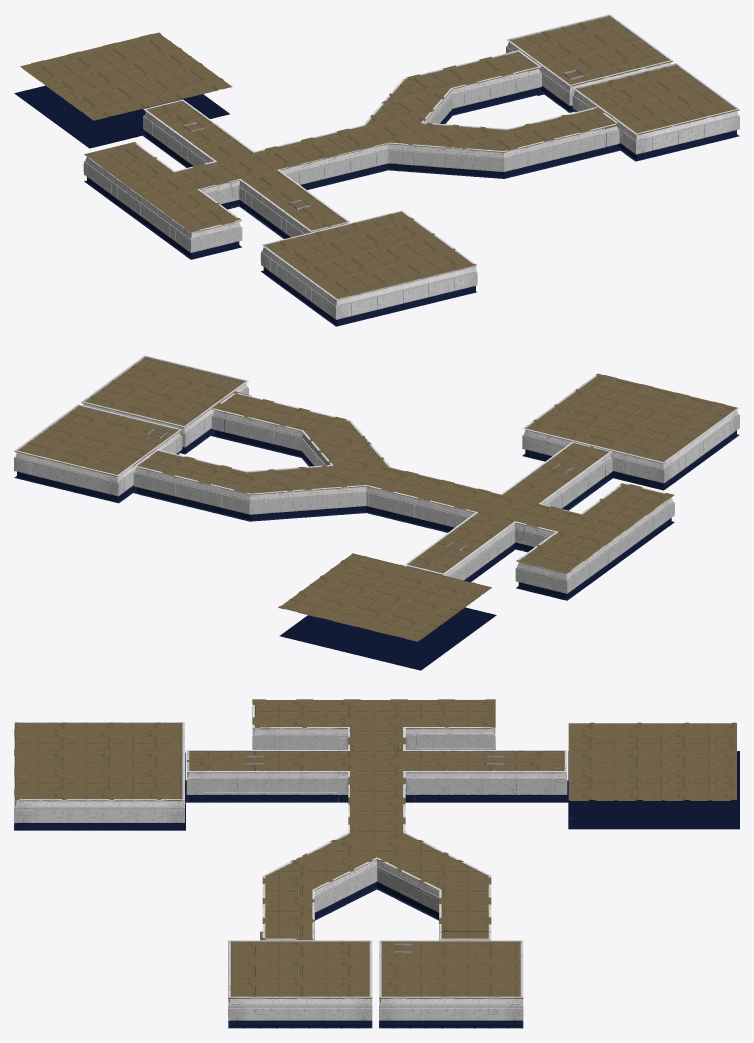
Rendered from Room.fbx.
3 views of the same model, one above another, from view 1: azimuth 30°, elevation 25°; view 2: azimuth 150°, elevation 25°; view 3: azimuth 270°, elevation 25° (orthographic). The views are drawn at different scales.
Visible parts, largest first — view 1: Ceiling, Wall_05_Panels.002, floor, Wall_04_CornerPanels.004, Wall_05_Panels.017, Wall_05_Panels.007, Wall_05_Panels.014, Wall_05_Panels.022, Wall_05_Panels.015, Wall_05_Panels.012, Wall_05_Panels.004, Wall_05_Panels.021 (+4 smaller); view 2: Ceiling, Wall_05_Panels.016, floor, Wall_05_Panels.001, Wall_04_CornerPanels.002, Wall_05_Panels.007, Wall_05_Panels.020, Wall_05_Panels.005, Wall_05_Panels.004, Wall_05_Panels.015, Wall_05_Panels.012, Wall_05_Panels.010 (+2 smaller); view 3: Ceiling, floor, Wall_05_Panels.006, Wall_05_Panels.003, Wall_05_Panels.019, Wall_05_Panels.023, Wall_05_Panels.013, Wall_05_Panels.014, Wall_05_Panels.017, Wall_05_Panels.001, Wall_05_Panels.005, Wall_05_Panels.016 (+3 smaller).
Part boxes in pixels (left/top/right/bottom): Ceiling: left=20, top=16, right=739, bottom=298; Wall_05_Panels.002: left=277, top=115, right=619, bottom=189; floor: left=14, top=72, right=726, bottom=325; Wall_04_CornerPanels.004: left=328, top=259, right=477, bottom=326; Wall_05_Panels.017: left=421, top=58, right=541, bottom=123; Wall_05_Panels.007: left=89, top=158, right=184, bottom=252; Wall_05_Panels.014: left=183, top=181, right=242, bottom=259; Wall_05_Panels.022: left=649, top=111, right=726, bottom=157; Wall_05_Panels.015: left=231, top=179, right=329, bottom=238; Wall_05_Panels.012: left=268, top=250, right=329, bottom=320; Wall_05_Panels.004: left=143, top=104, right=217, bottom=167; Wall_05_Panels.021: left=572, top=85, right=649, bottom=161; Ceiling: left=14, top=357, right=736, bottom=641; Wall_05_Panels.016: left=133, top=457, right=478, bottom=532; floor: left=28, top=413, right=729, bottom=670; Wall_05_Panels.001: left=211, top=400, right=333, bottom=466; Wall_04_CornerPanels.002: left=522, top=423, right=672, bottom=489; Wall_05_Panels.007: left=570, top=501, right=666, bottom=595; Wall_05_Panels.020: left=27, top=453, right=105, bottom=499; Wall_05_Panels.005: left=515, top=523, right=572, bottom=599; Wall_05_Panels.004: left=424, top=521, right=523, bottom=581; Wall_05_Panels.015: left=539, top=447, right=612, bottom=510; Wall_05_Panels.012: left=670, top=413, right=731, bottom=483; Wall_05_Panels.010: left=104, top=426, right=182, bottom=503; Ceiling: left=14, top=699, right=736, bottom=998; floor: left=70, top=748, right=739, bottom=1028; Wall_05_Panels.006: left=186, top=762, right=337, bottom=802; Wall_05_Panels.003: left=416, top=761, right=567, bottom=802; Wall_05_Panels.019: left=379, top=990, right=523, bottom=1028; Wall_05_Panels.023: left=228, top=990, right=372, bottom=1028; Wall_05_Panels.013: left=32, top=799, right=166, bottom=830; Wall_05_Panels.014: left=252, top=704, right=349, bottom=749; Wall_05_Panels.017: left=377, top=857, right=464, bottom=939; Wall_05_Panels.001: left=288, top=857, right=376, bottom=940; Wall_05_Panels.005: left=403, top=699, right=495, bottom=749; Wall_05_Panels.016: left=403, top=771, right=491, bottom=939.
Bounding box in the file's own units: 6152 × 311 × 6330.
Materials: 4 (4 with a texture image).
